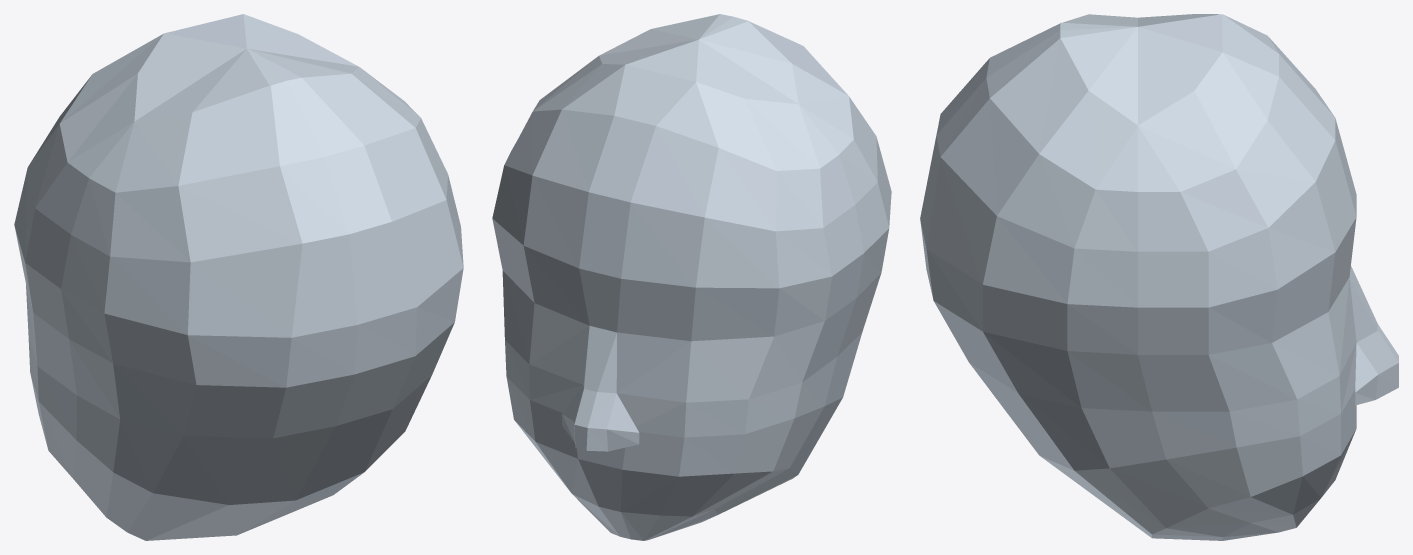
Rendered from Head2.FBX.
The picture shows the model from 3 angles, left to right: view 1: azimuth 30°, elevation 25°; view 2: azimuth 150°, elevation 25°; view 3: azimuth 270°, elevation 25°; orthographic projection. The views are drawn at different scales.
Parts seen in each view (by area): view 1: VIFS001; view 2: VIFS001; view 3: VIFS001.
Part boxes in pixels (<box>): VIFS001: <box>14,14,463,540</box>; VIFS001: <box>492,14,891,540</box>; VIFS001: <box>920,14,1398,540</box>.
Bounding box in the file's own units: 0.598 × 0.783 × 0.679.
